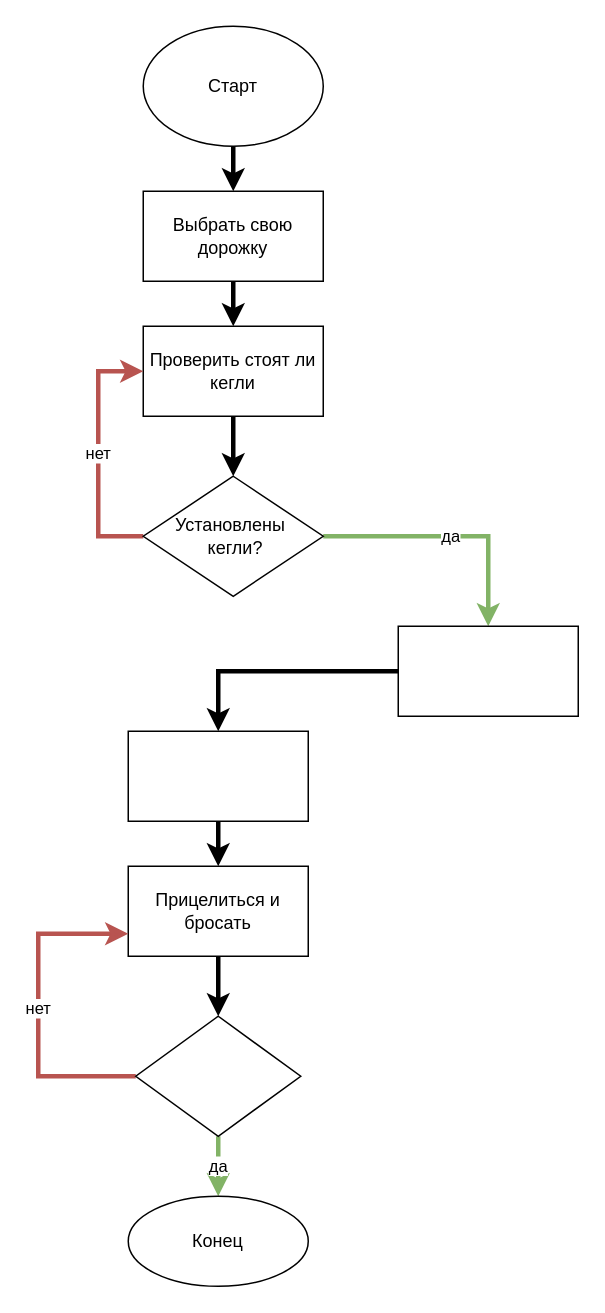
This 605x1313 diagram has some shape labels left out. Here are the shapes that lost their labels. From the top down, the box of each, then its label:
(397, 625, 578, 716): Взять шар
(127, 730, 308, 821): Встать на свою дорожку
(134, 1015, 301, 1136): Забиты все кегли?
